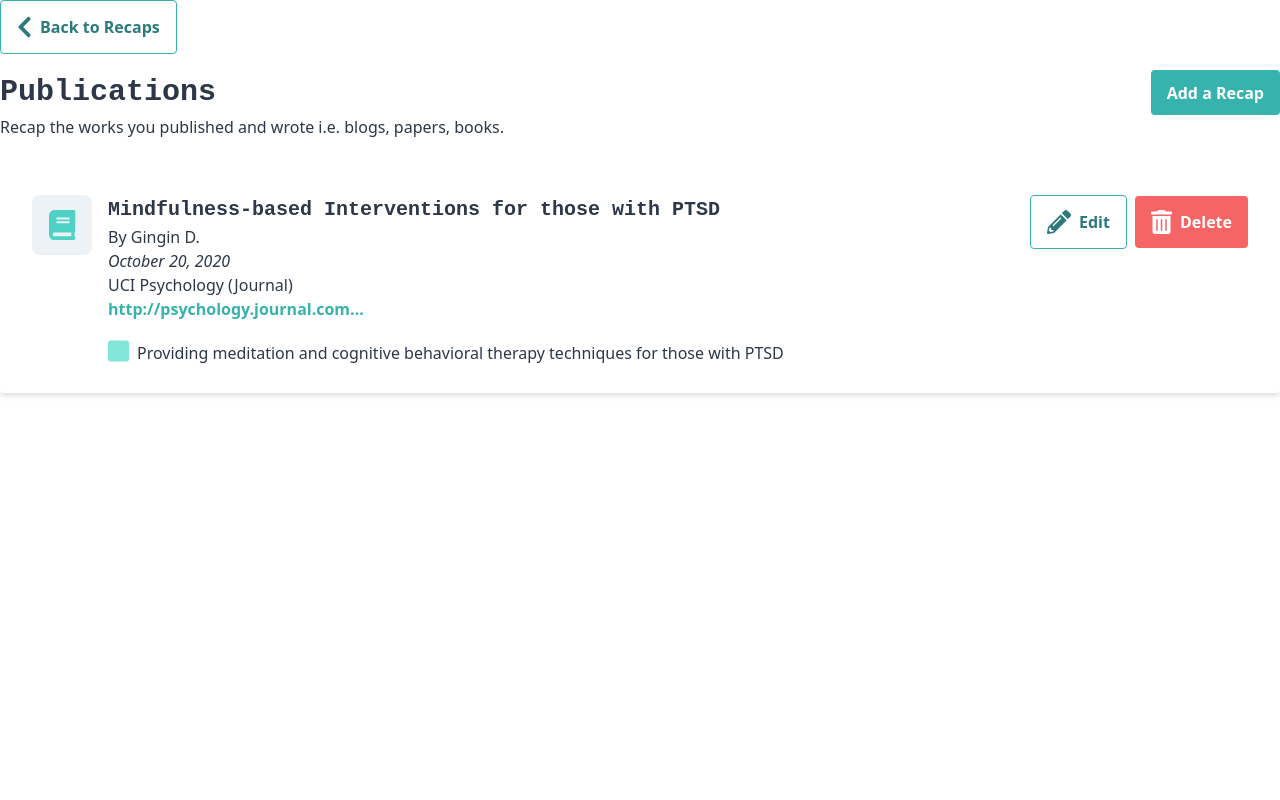
Scenario: <PublicationsLayout /> › should show the success alert after deleting a recap successfully
Step 1. Click the button "Delete" → click(1192, 222), box [1135, 196, 1248, 248]
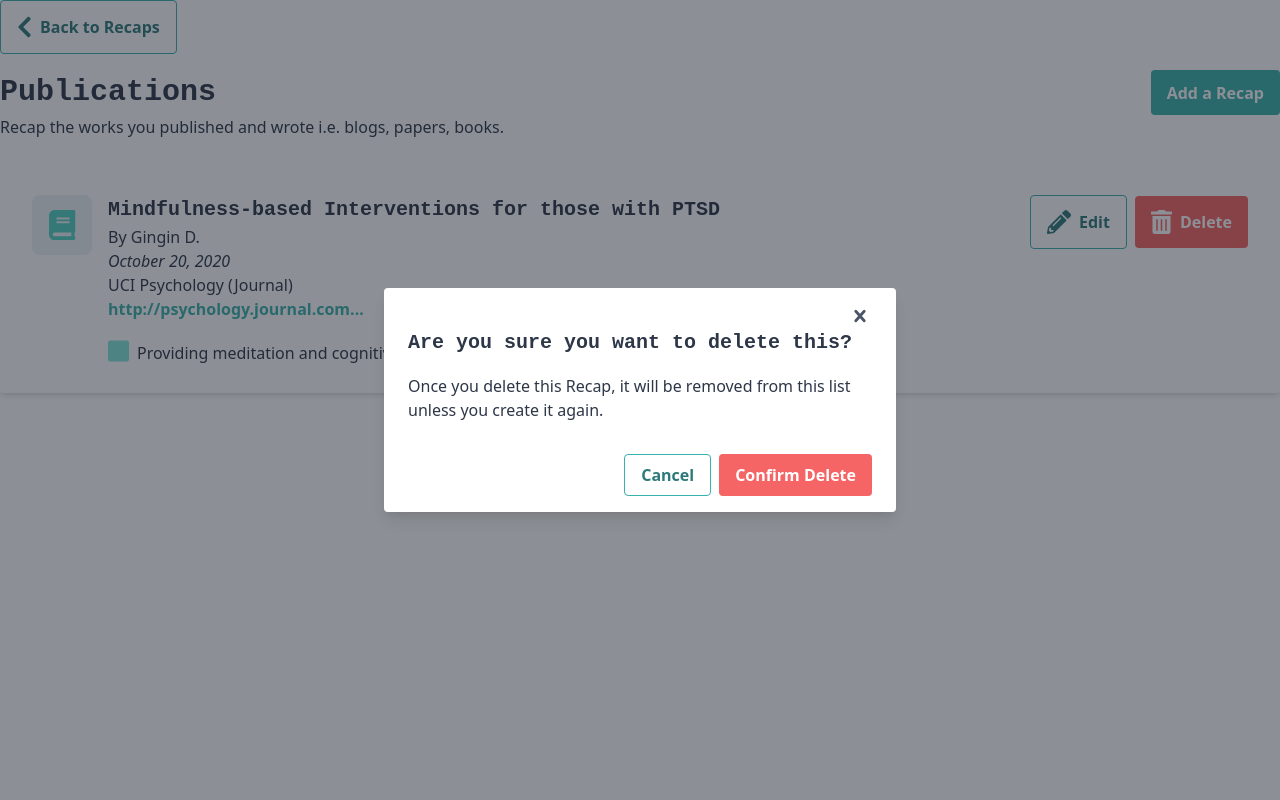
Expected: the heading "Are you sure you want to delete this?" is shown, [408, 328, 872, 358]
Step 2. Click the button "Confirm Delete" → click(796, 475), box [719, 454, 872, 496]
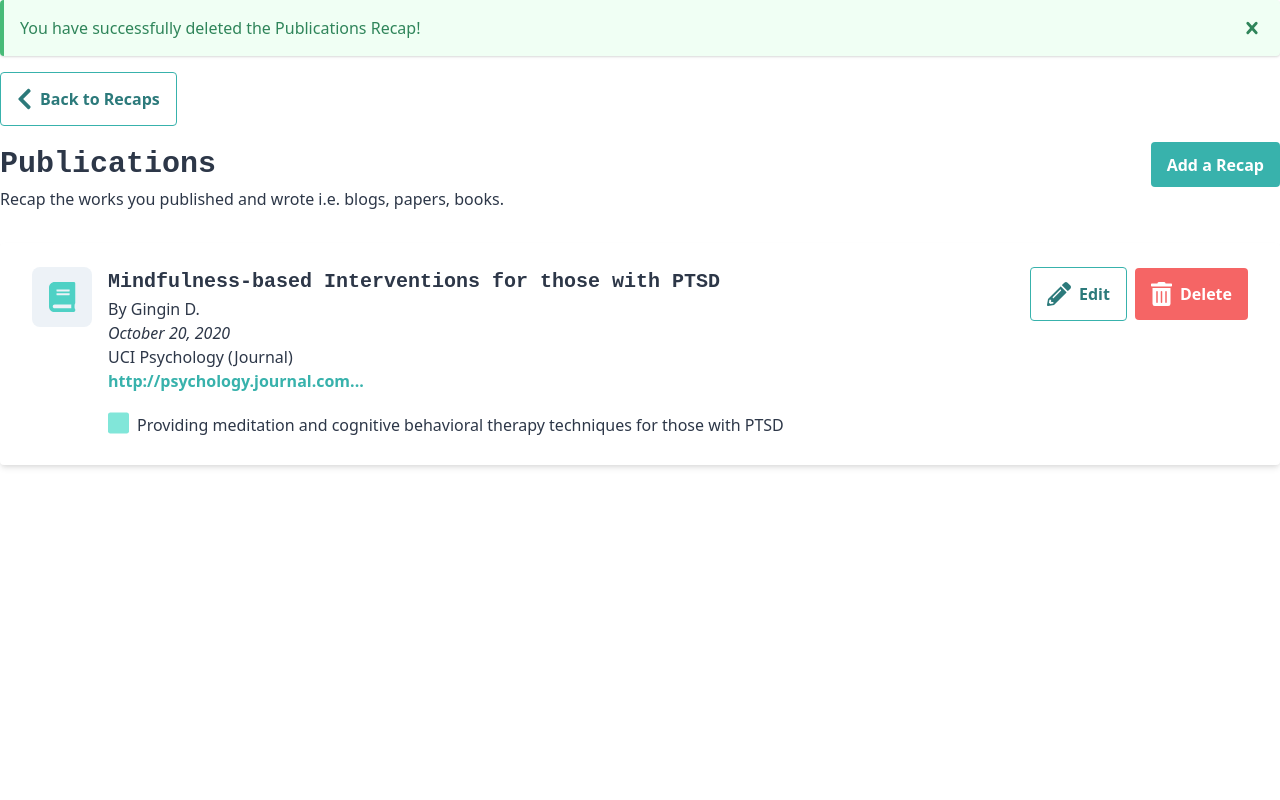
Expected: the heading "Are you sure you want to delete this?" is gone
Expected: the text "You have successfully deleted the Publications Recap!" is shown, [20, 17, 420, 39]
